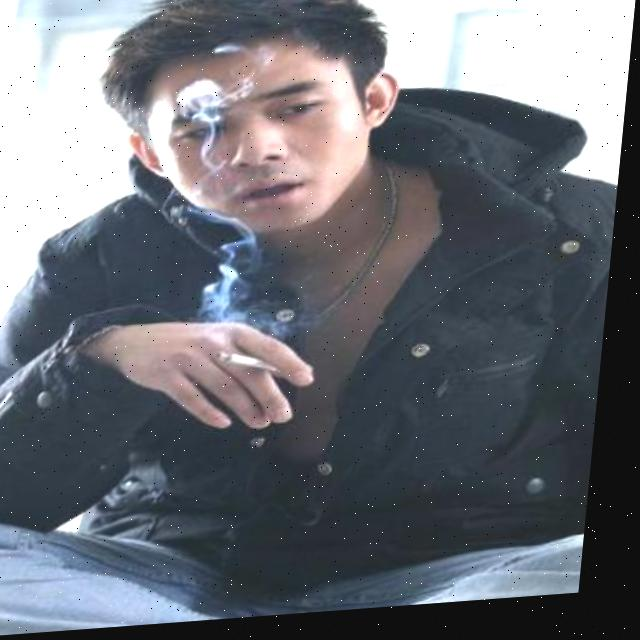cigarette: (220, 351, 294, 382)
